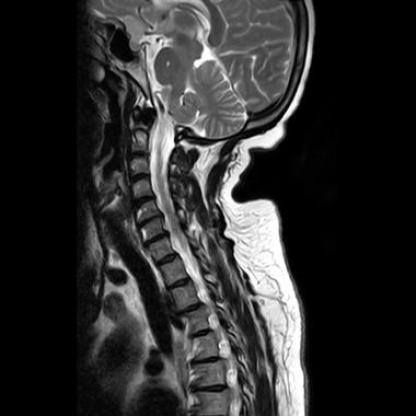Disc Bulgerotation: (135, 214, 163, 227), (142, 234, 169, 245)
Osteophytesrotation: (141, 233, 169, 245), (135, 215, 162, 227)
